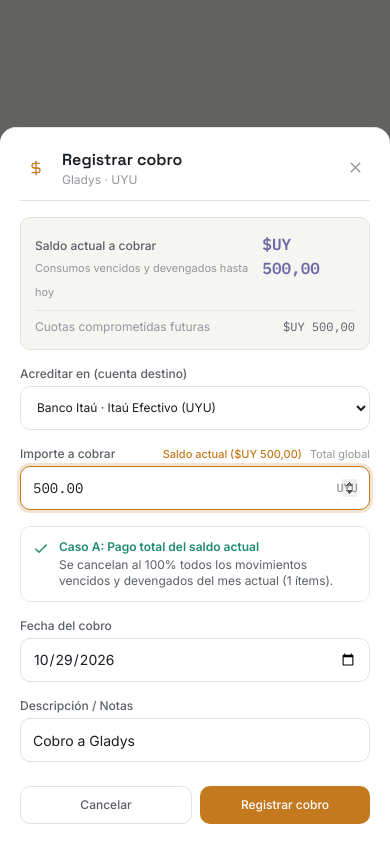
Scenario: RegisterPersonPaymentModal › detecta Caso B cuando el usuario disminuye el importe a pagar
Replace the text in the number field with placeholder "0.00" with "300": (195, 488) [20,466,370,510]
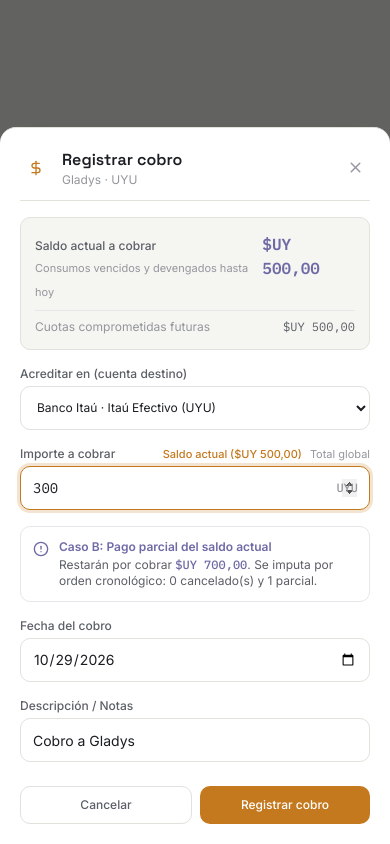
Check: the text "Caso B: Pago parcial del saldo actual" is shown, box [59,539,272,554]
Check: the text "Restarán por cobrar" is shown, box [59,557,172,572]
